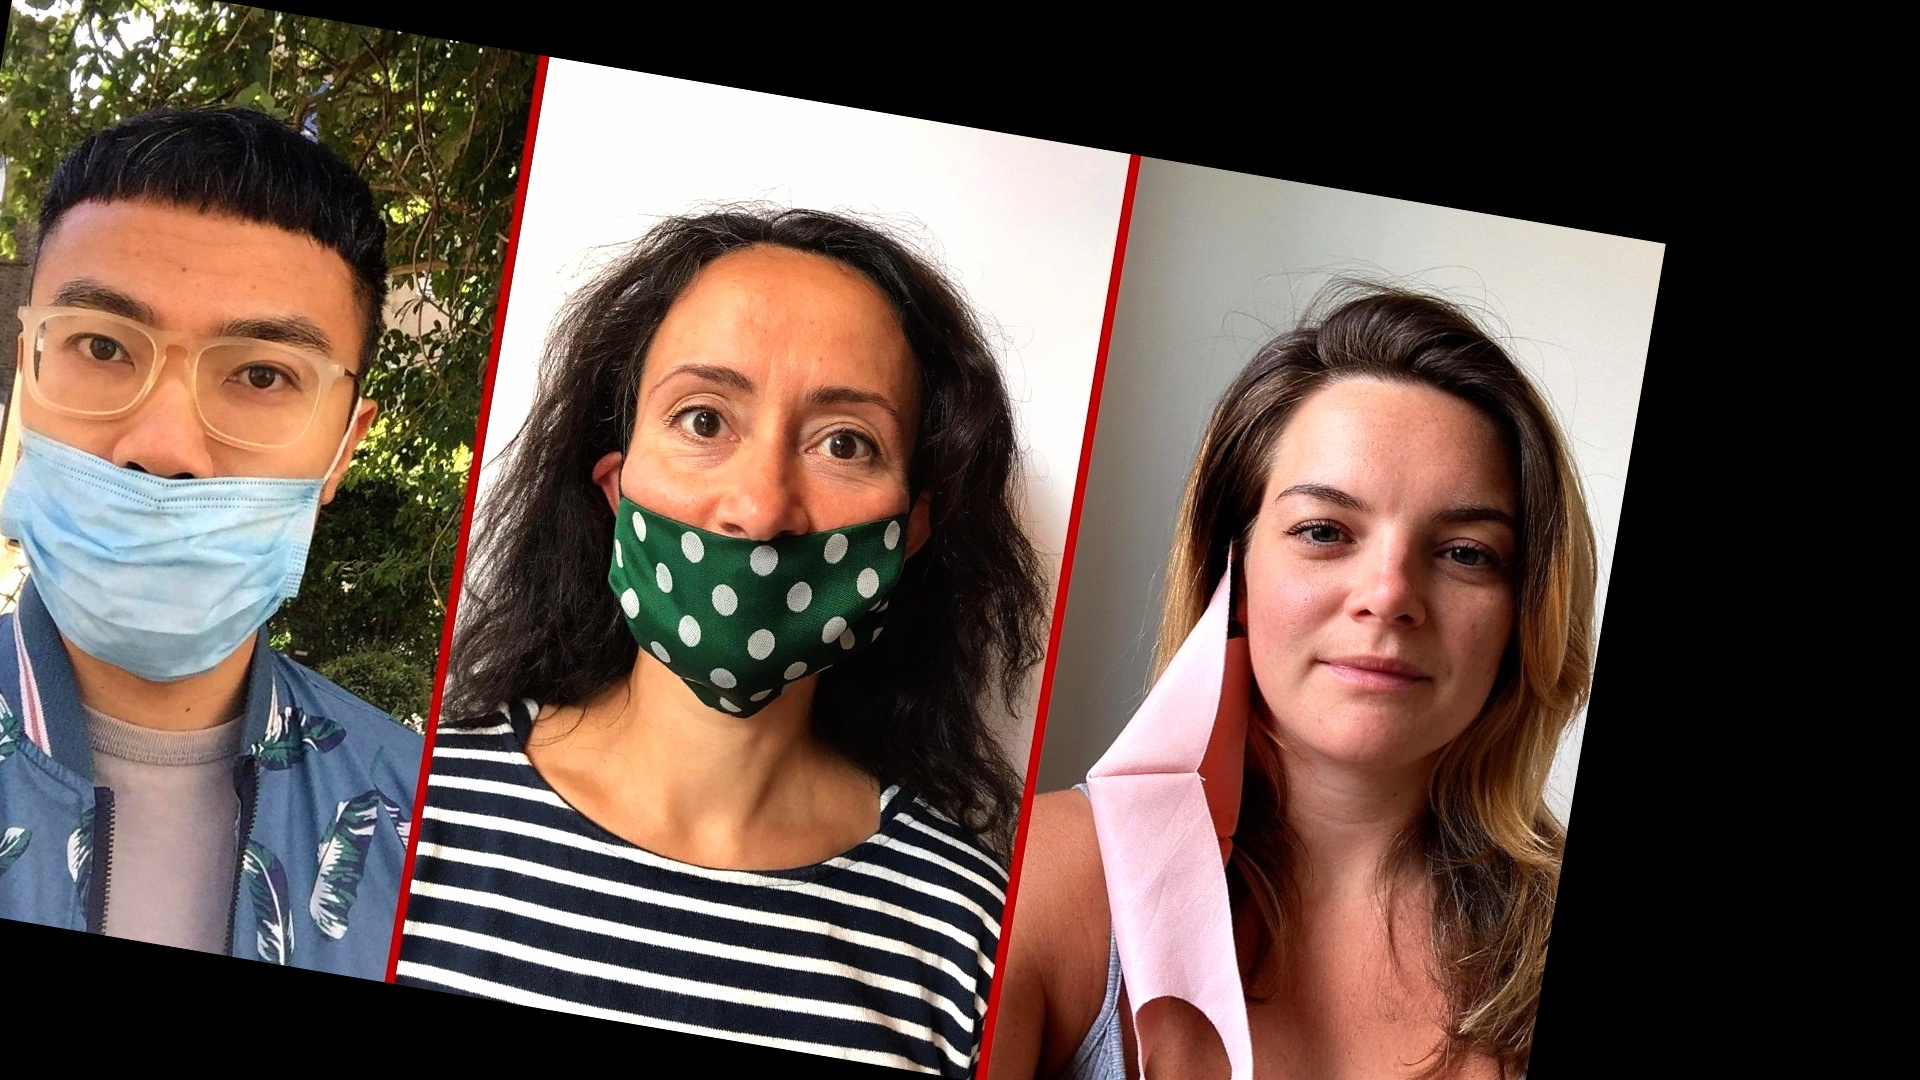mask_weared_incorrect: (12, 179, 363, 668), (614, 230, 926, 730)
without_mask: (1263, 363, 1521, 765)
